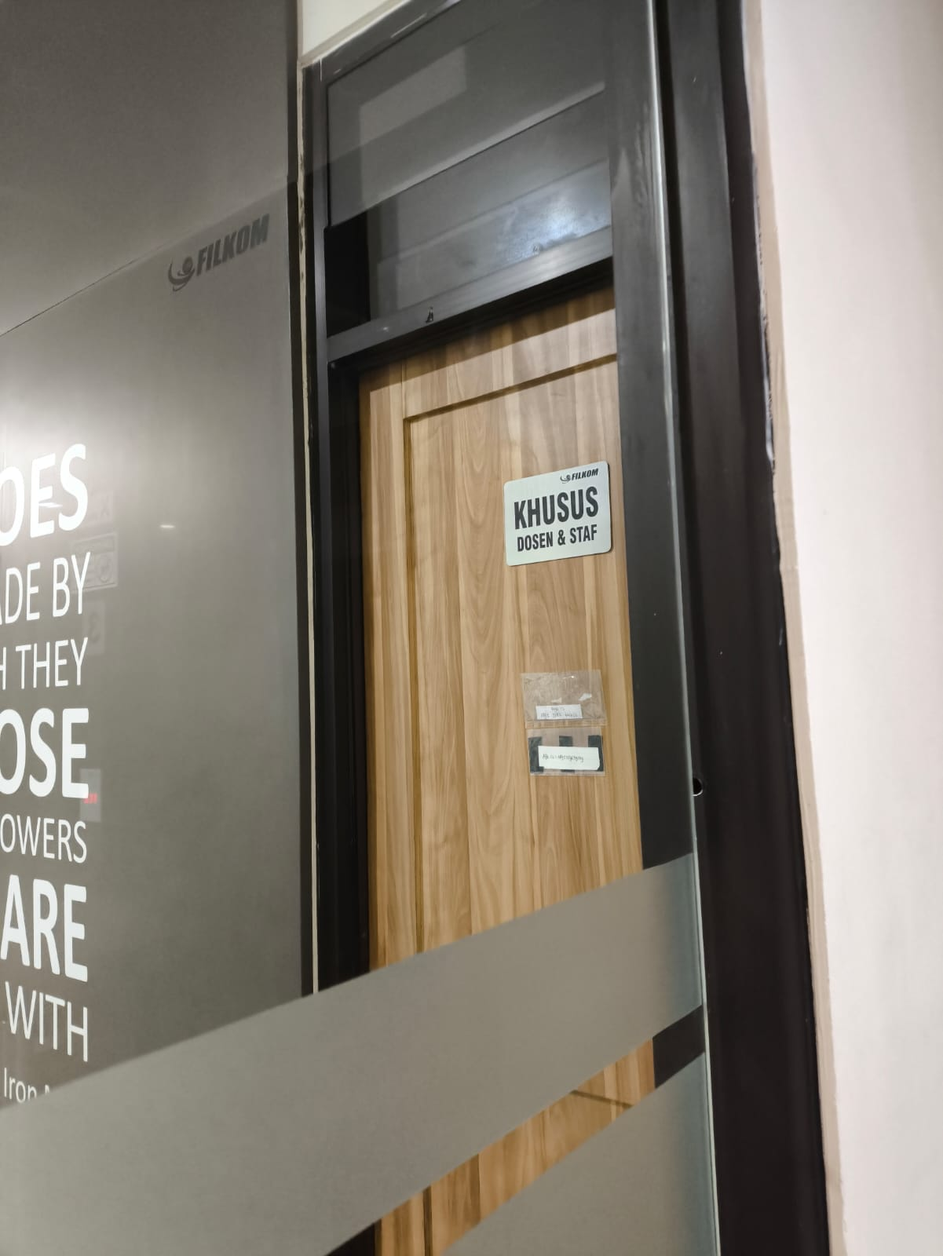ruang khusus dosen dan staff: (501, 455, 611, 570)
